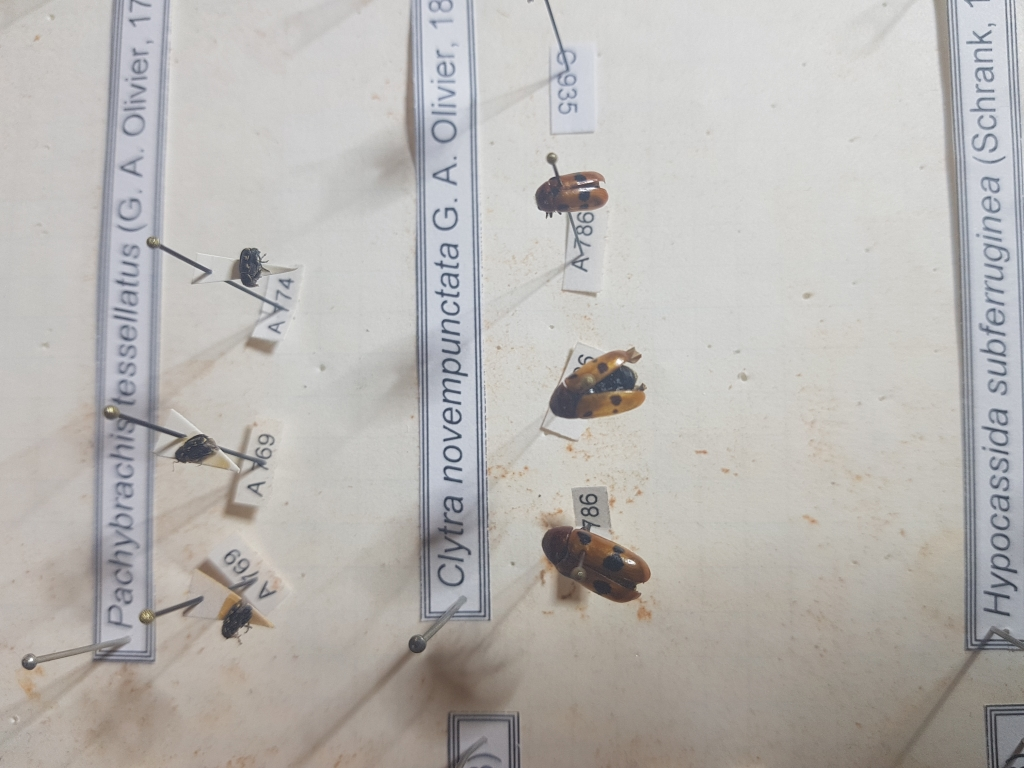Clytra_novempunctata: (538, 519, 652, 610), (544, 344, 650, 431), (533, 169, 612, 216)
